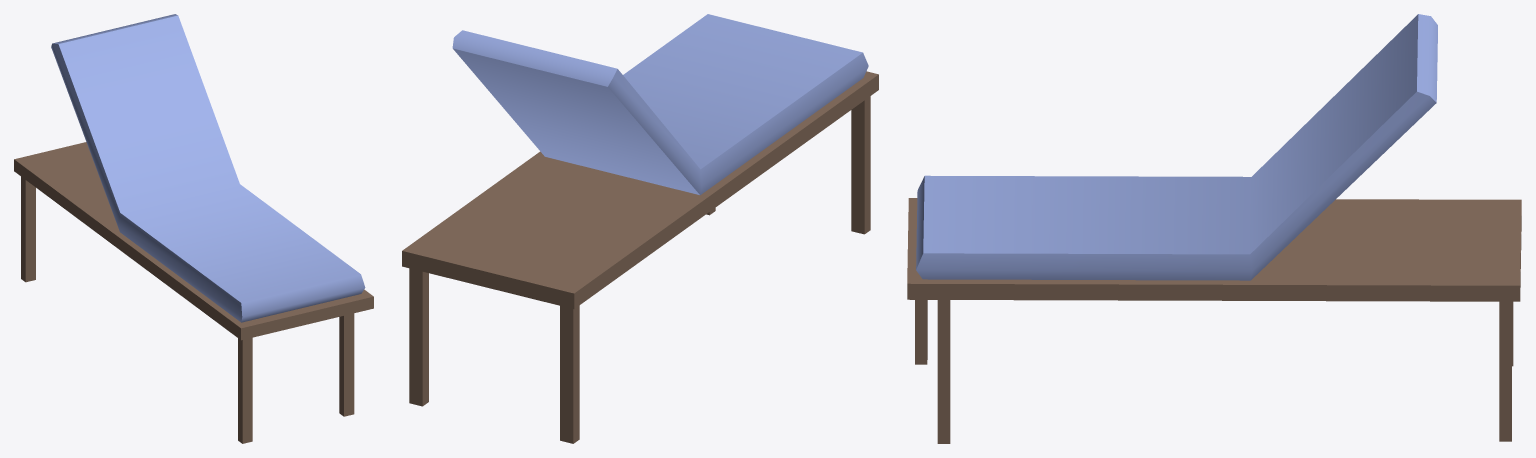
File: Examining_Chair.fbx
3 renders of one model, left to right at view 1: azimuth 30°, elevation 25°; view 2: azimuth 150°, elevation 25°; view 3: azimuth 270°, elevation 25°, orthographic. The views are drawn at different scales.
Parts seen in each view (by area): view 1: Examining_Chair; view 2: Examining_Chair; view 3: Examining_Chair.
Part boxes in pixels (box(x1,y1,x2,y2)): Examining_Chair: box(14, 14, 373, 443); Examining_Chair: box(402, 14, 878, 443); Examining_Chair: box(907, 14, 1521, 443).
Size of the model in its own units: 52.39 by 98.61 by 155.
